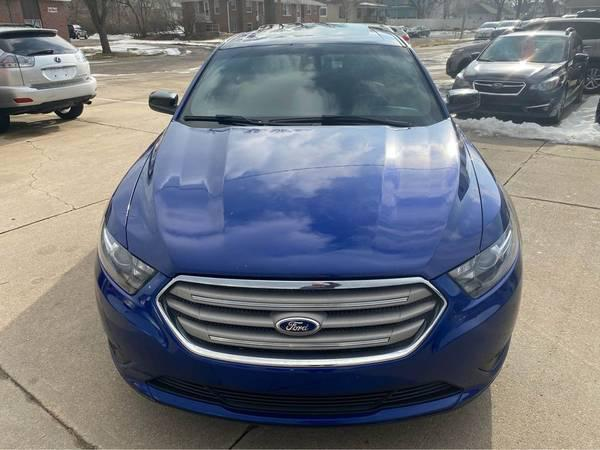Front_Bumper: (98, 249, 526, 422)
Front_Windshield: (172, 33, 447, 122)
Grille: (154, 270, 448, 360)
Hood: (104, 112, 509, 273)
Left_Headlight: (432, 205, 522, 301)
Left_Mirror: (447, 80, 481, 109)
Right_Headlight: (96, 223, 189, 298)
Right_Mirror: (149, 90, 179, 114)
Roof: (214, 14, 405, 42)
